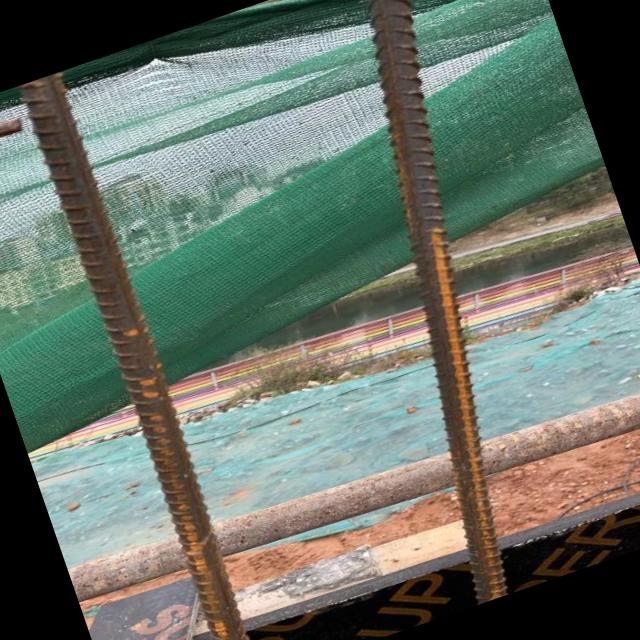ribbed bar: (266, 0, 608, 604), (15, 71, 267, 640)
